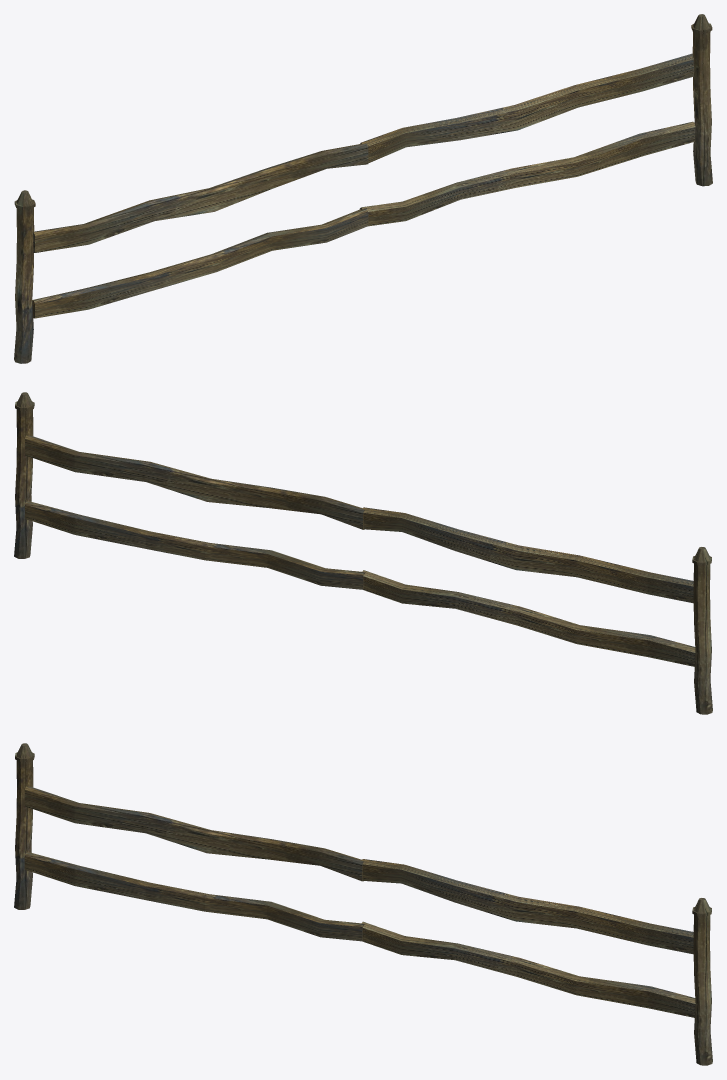
File: combo6.obj
3 renders of one model, top to bottom at view 1: azimuth 30°, elevation 25°; view 2: azimuth 150°, elevation 25°; view 3: azimuth 330°, elevation 25°, orthographic. The views are drawn at different scales.
Parts seen in each view (by area): view 1: Mesh.001_Skeleton.007, Mesh.000_Skeleton.008; view 2: Mesh.000_Skeleton.008, Mesh.001_Skeleton.007; view 3: Mesh.001_Skeleton.007, Mesh.000_Skeleton.008.
Part boxes in pixels (bbox=[...]): Mesh.001_Skeleton.007: bbox=[360, 14, 712, 226]; Mesh.000_Skeleton.008: bbox=[14, 143, 368, 363]; Mesh.000_Skeleton.008: bbox=[362, 507, 712, 714]; Mesh.001_Skeleton.007: bbox=[14, 392, 365, 589]; Mesh.001_Skeleton.007: bbox=[361, 859, 712, 1065]; Mesh.000_Skeleton.008: bbox=[14, 743, 364, 941].
Bounding box in the file's own units: 231 × 52.16 × 13.32.
